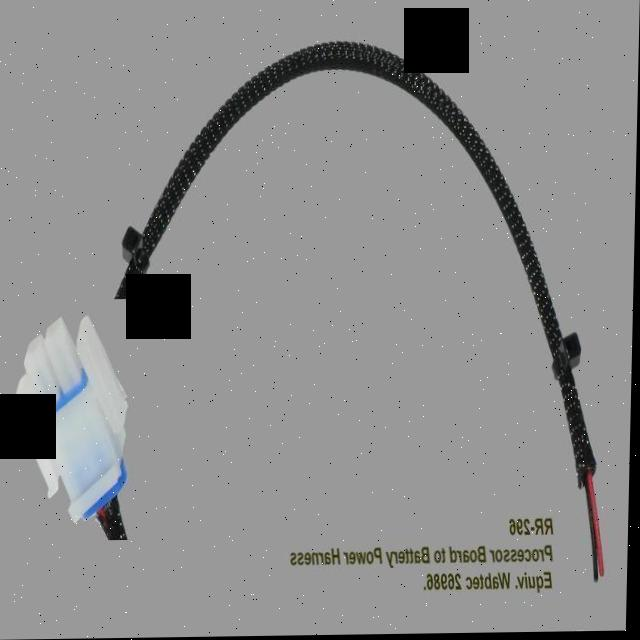connector: (117, 43, 604, 580), (17, 316, 129, 522)
